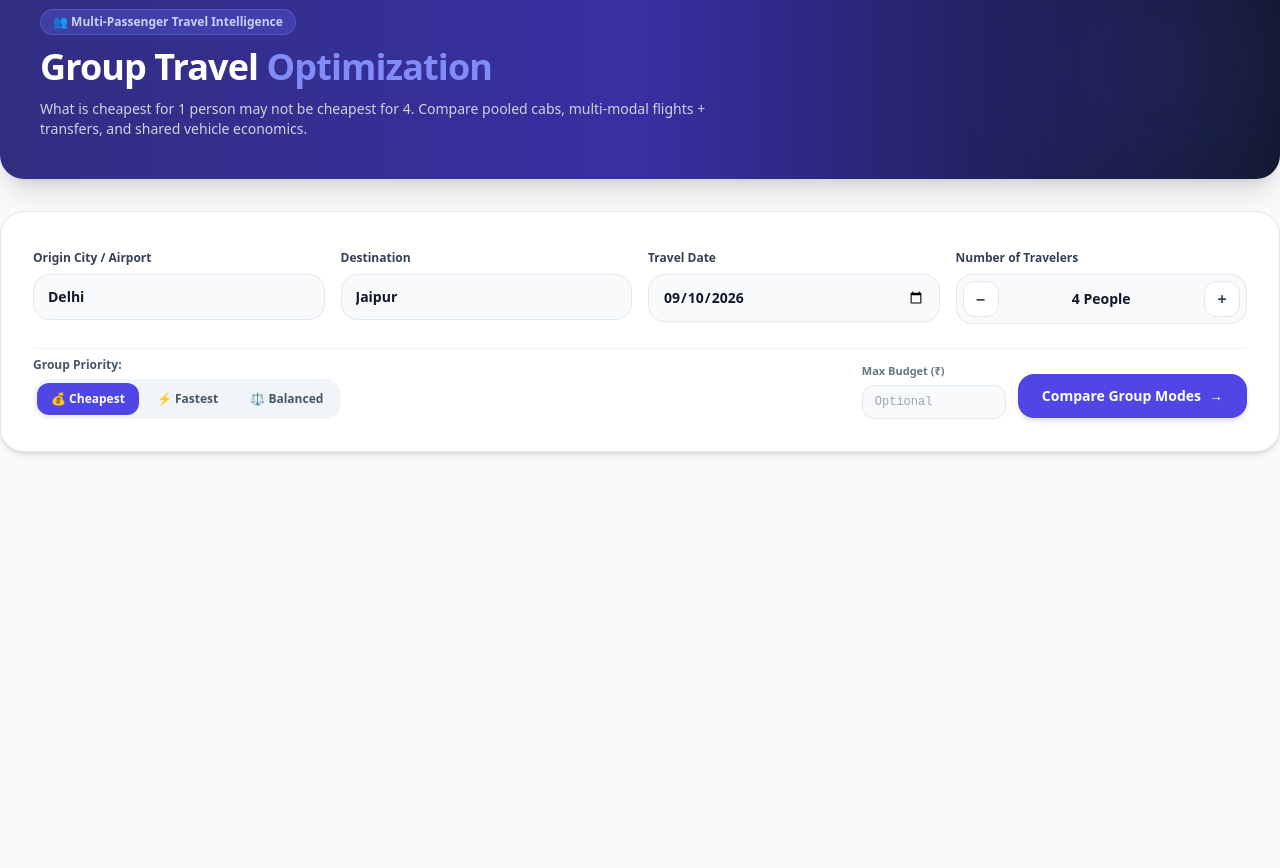
Scenario: Phase 33: Group Travel Optimization Component › submits group travel query and displays comparison results and cost breakdown
Click the button "Compare Group Modes →" at (1132, 396), box x1=1018 y1=374 x2=1247 y2=418
(page scrolled)
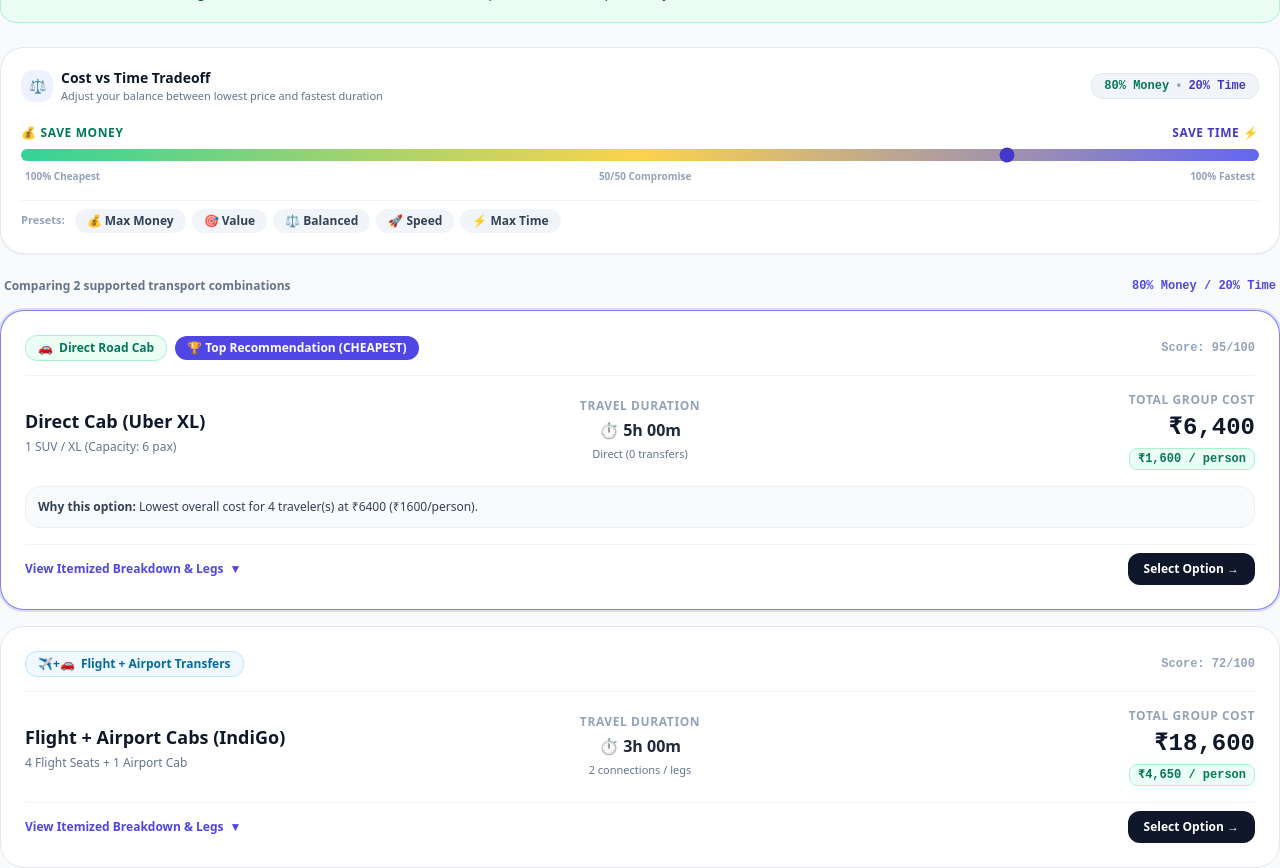
Check: the heading "Direct Cab (Uber XL)" is shown, box x1=25 y1=408 x2=205 y2=432
Check: the text "₹6,400" is shown, box x1=1168 y1=414 x2=1255 y2=440
Check: the text "₹1,600 / person" is shown, box x1=1129 y1=448 x2=1255 y2=470
Expand itemized breakdown on first option
Click the button "View Itemized Breakdown & Legs ▼" below "Why this option:" at (133, 568), box x1=25 y1=556 x2=241 y2=580
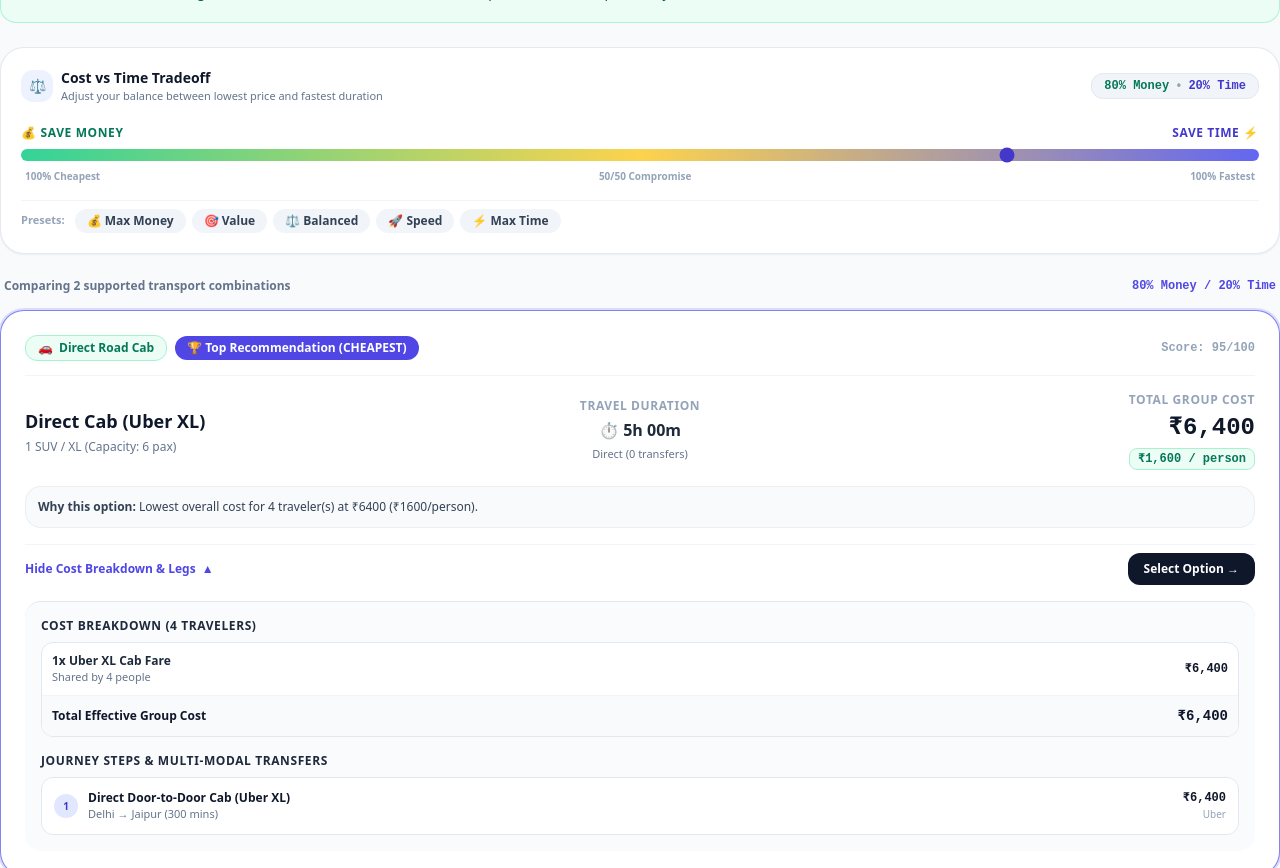
Check: the heading "Cost Breakdown (4 Travelers)" is shown, box x1=41 y1=616 x2=256 y2=634
Check: the text "1x Uber XL Cab Fare" is shown, box x1=52 y1=652 x2=171 y2=668
Check: the heading "Journey Steps & Multi-Modal Transfers" is shown, box x1=41 y1=752 x2=328 y2=768
